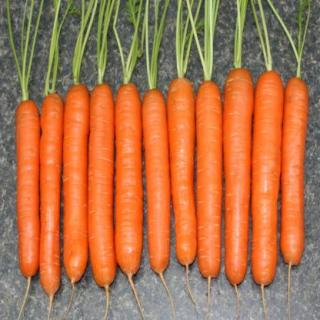Wortel: (224, 63, 253, 293), (253, 73, 282, 290), (282, 76, 314, 269), (88, 84, 116, 293), (142, 89, 172, 280), (115, 84, 144, 279), (169, 76, 198, 269), (64, 83, 90, 287)
